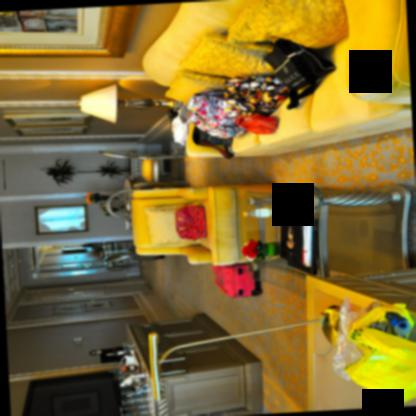backpack: (177, 89, 252, 138), (221, 74, 289, 115), (174, 205, 209, 238)
handbag: (264, 37, 336, 108), (191, 124, 234, 157), (236, 112, 279, 133)
suitcase: (213, 262, 260, 296)
